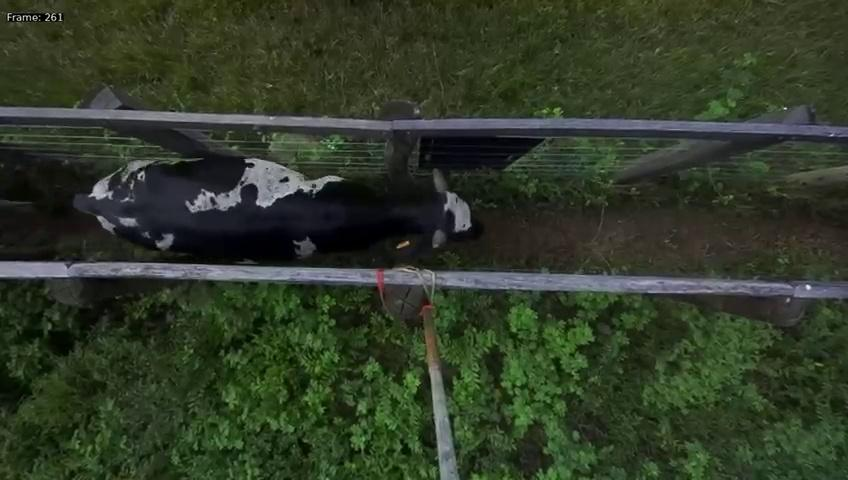cattle: (73, 142, 482, 272)
